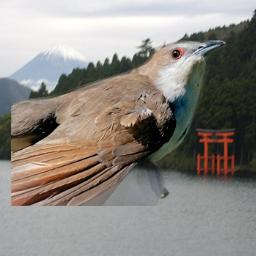Cuckoo: (11, 40, 226, 206)
